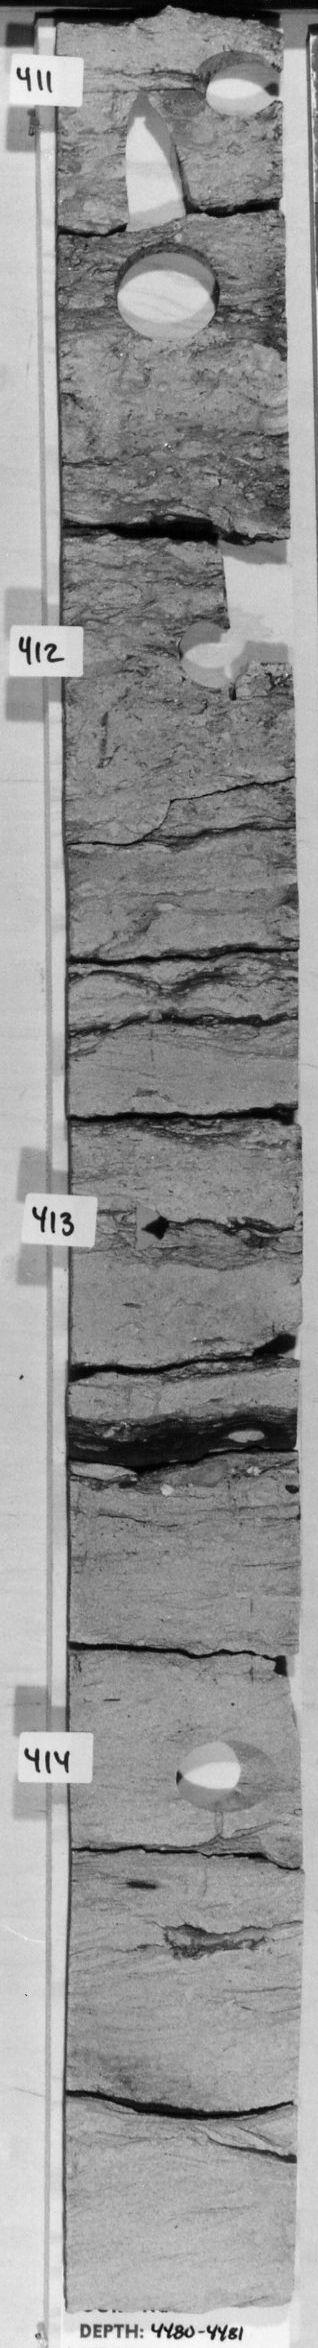hplug: (165, 1733, 280, 1822), (192, 48, 280, 117), (171, 612, 231, 696), (118, 1193, 178, 1262)
scal: (108, 240, 225, 344)
vplug: (111, 82, 199, 234), (219, 527, 291, 702)
